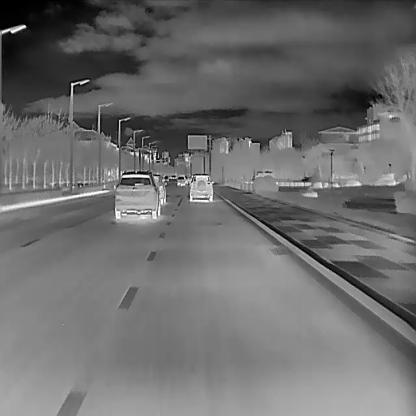car: (114, 169, 160, 219), (189, 173, 213, 202), (152, 172, 166, 203), (176, 174, 186, 185)
